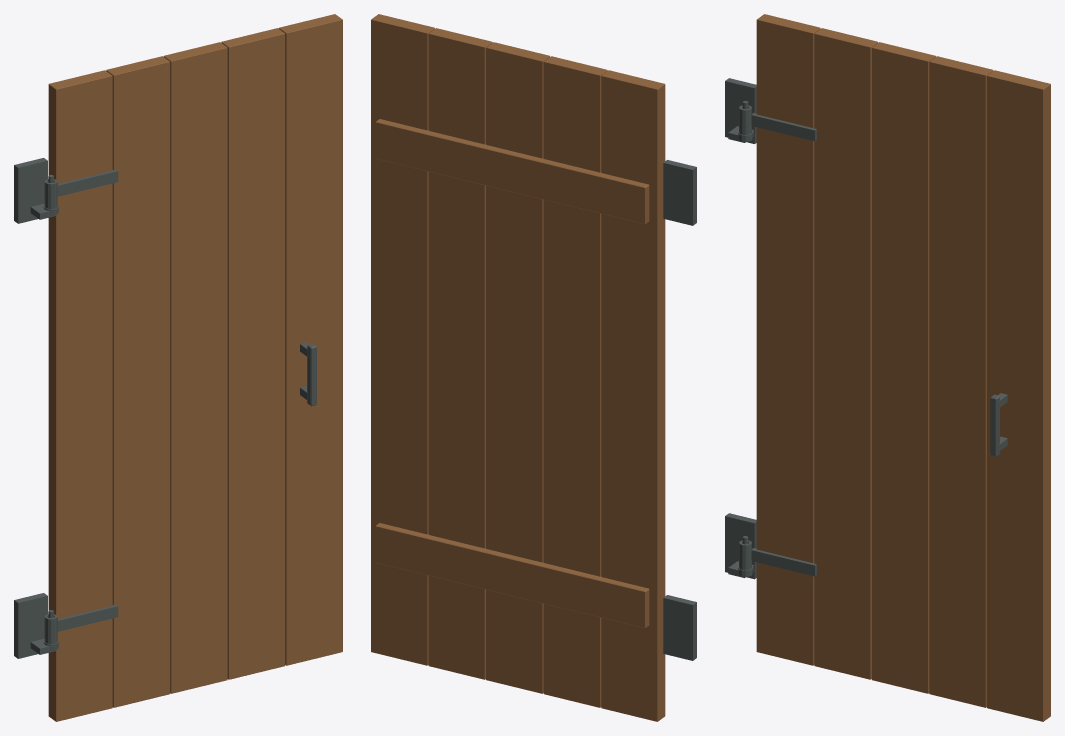
The picture shows the model from 3 angles, left to right: view 1: azimuth 30°, elevation 25°; view 2: azimuth 150°, elevation 25°; view 3: azimuth 330°, elevation 25°; orthographic projection.
Parts seen in each view (by area): view 1: DoorLeaf_Runtime, HingeMounts_Static; view 2: DoorLeaf_Runtime, HingeMounts_Static; view 3: DoorLeaf_Runtime, HingeMounts_Static.
Part boxes in pixels (x1=…): DoorLeaf_Runtime: x1=44, y1=14, x2=342, y2=721; HingeMounts_Static: x1=14, y1=158, x2=58, y2=658; DoorLeaf_Runtime: x1=371, y1=14, x2=665, y2=721; HingeMounts_Static: x1=663, y1=160, x2=696, y2=660; DoorLeaf_Runtime: x1=739, y1=14, x2=1050, y2=721; HingeMounts_Static: x1=725, y1=78, x2=756, y2=579.
Bounding box in the file's own units: 1.08 × 2.04 × 0.1305.
